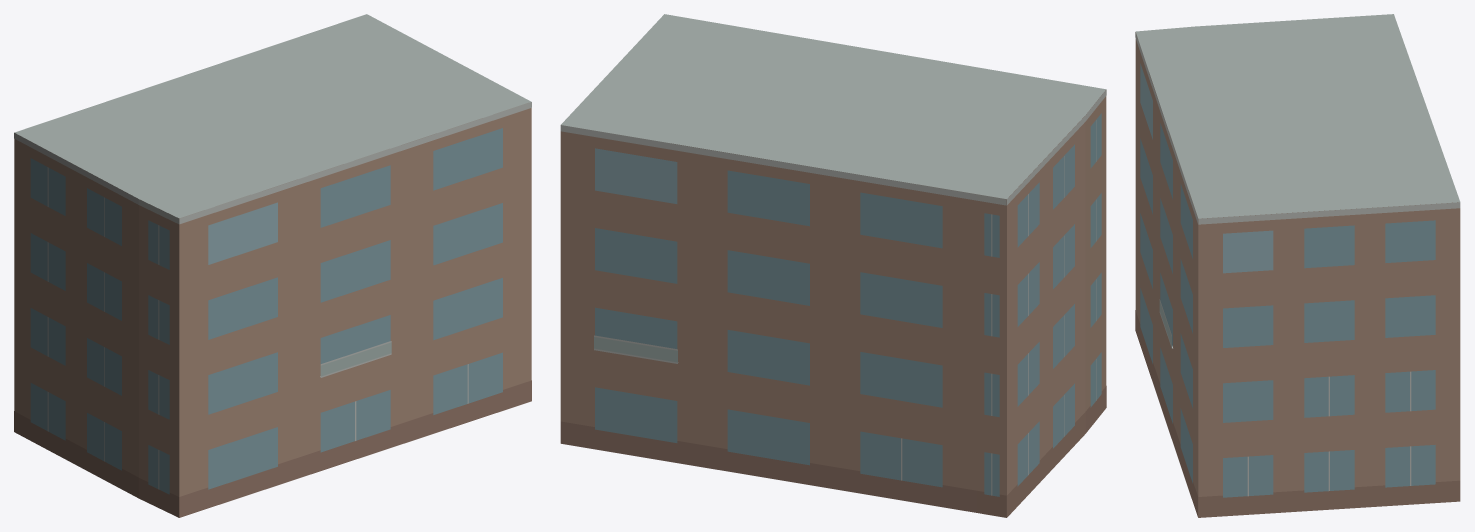
Rendered from survey-upis-33017895.glb.
The picture shows the model from 3 angles, left to right: view 1: azimuth 30°, elevation 25°; view 2: azimuth 150°, elevation 25°; view 3: azimuth 270°, elevation 25°; orthographic projection. The views are drawn at different scales.
Visible parts, largest first — view 1: survey-upis-33017895.tmp; view 2: survey-upis-33017895.tmp; view 3: survey-upis-33017895.tmp.
Boxes of the visible parts, x1,y1,x2,y2 form: survey-upis-33017895.tmp: (14,14,531,517); survey-upis-33017895.tmp: (560,14,1106,517); survey-upis-33017895.tmp: (1135,14,1460,517).
Size of the model in its own units: 17.9 by 12.2 by 12.02.
